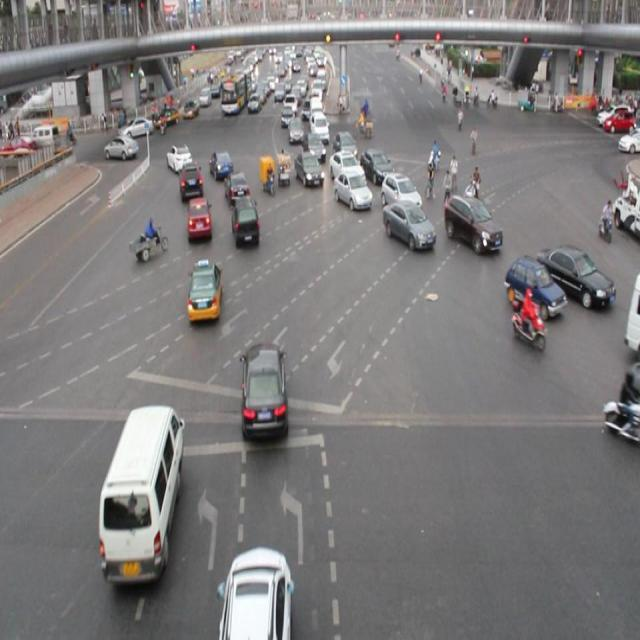BigCar: (214, 70, 258, 114)
car: (97, 404, 184, 590), (217, 550, 294, 640), (237, 340, 291, 442), (555, 235, 617, 317), (441, 186, 501, 260), (507, 247, 558, 316), (383, 198, 435, 256), (187, 255, 227, 322), (332, 171, 371, 219), (231, 192, 261, 250), (384, 166, 422, 207), (294, 152, 325, 187), (186, 198, 214, 235), (163, 142, 195, 168), (602, 110, 634, 135), (220, 172, 249, 198), (105, 136, 135, 161), (177, 166, 204, 192), (208, 151, 235, 175), (248, 92, 264, 119), (287, 119, 302, 143)
